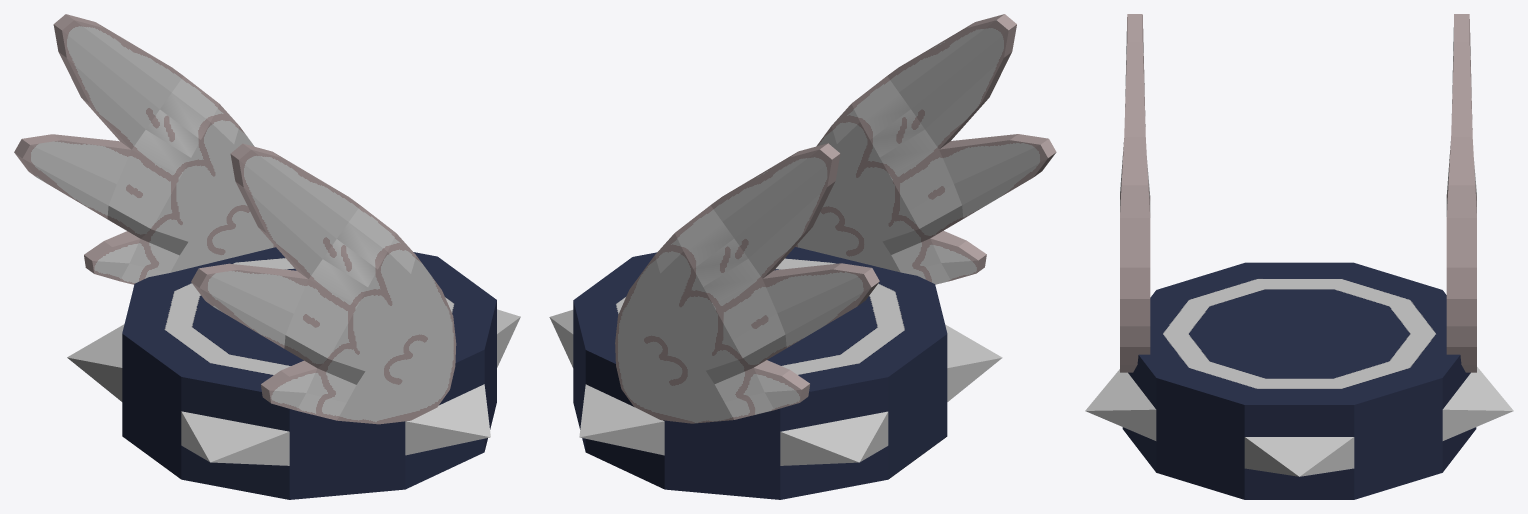
Rendered from puck_spiked_wings_final.fbx.
3 renders of one model, left to right at view 1: azimuth 30°, elevation 25°; view 2: azimuth 150°, elevation 25°; view 3: azimuth 270°, elevation 25°, orthographic. The views are drawn at different scales.
Visible parts, largest first — view 1: Spiked Puck, Wing 2, Wing 1; view 2: Spiked Puck, Wing 1, Wing 2; view 3: Spiked Puck, Wing 2, Wing 1.
Boxes of the visible parts, <box> form: Spiked Puck: <box>67,247,520,499</box>; Wing 2: <box>191,143,456,424</box>; Wing 1: <box>14,14,275,284</box>; Spiked Puck: <box>549,247,1002,499</box>; Wing 1: <box>615,143,879,423</box>; Wing 2: <box>795,14,1056,284</box>; Spiked Puck: <box>1085,262,1513,499</box>; Wing 2: <box>1120,14,1150,372</box>; Wing 1: <box>1446,14,1476,372</box>.
Size of the model in its own units: 2.26 by 2.19 by 1.95.
Materials: 2 (2 with a texture image).
